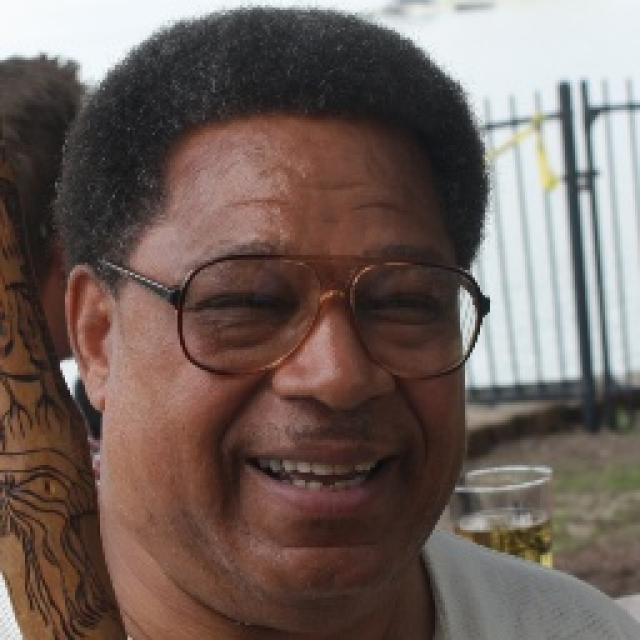earlobe: (65, 263, 117, 412)
